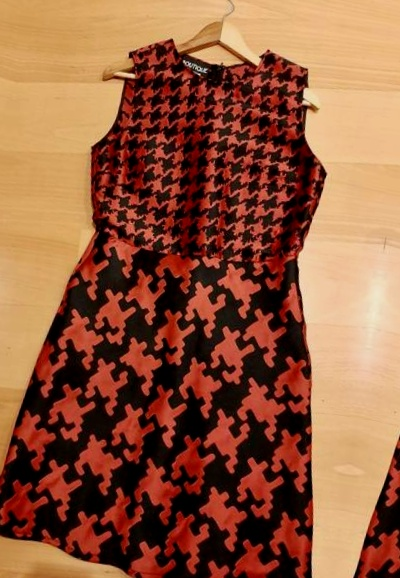Dress: (0, 12, 400, 578), (335, 69, 400, 578), (72, 0, 400, 6)
